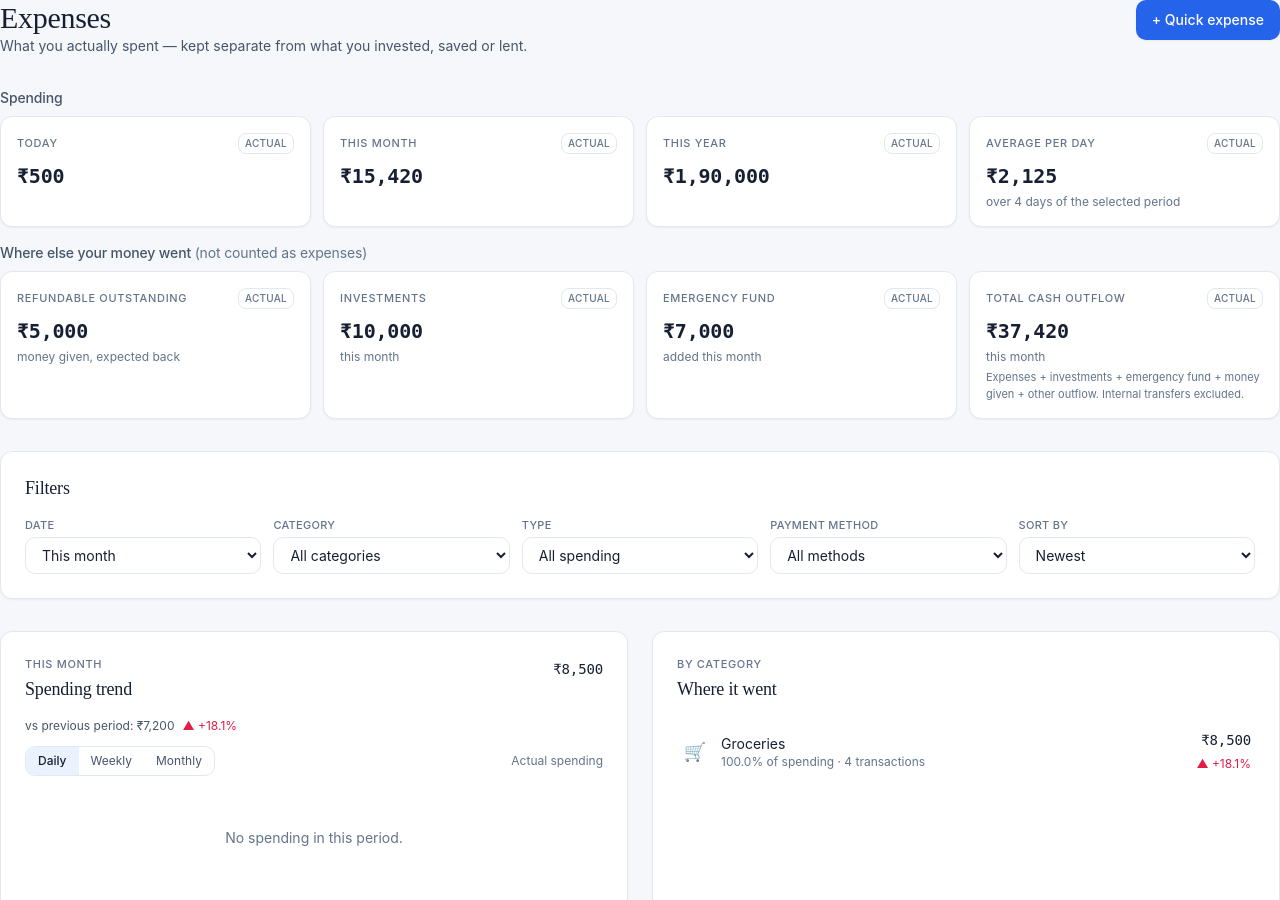
Test: ExpensesPage — filters › the Refundable type shows the RECEIVABLES ledger (not expense rows) and stops querying expenses
The width and height of the screenshot is (1280, 900).
Step 1. Select "Refundable (money given)" in the dropdown labelled "Type" → (640, 556), box [522,537,758,574]
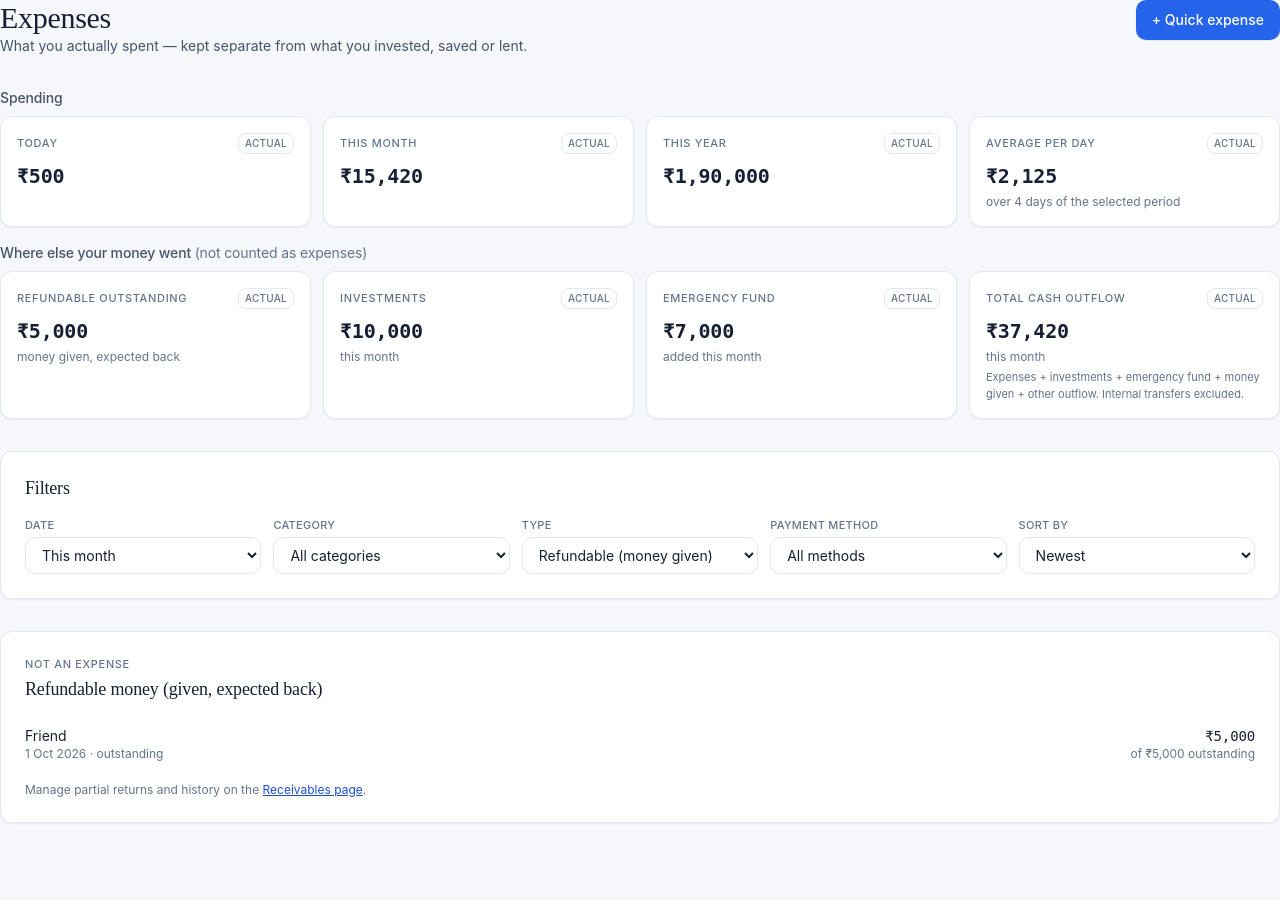
Result: the text "Friend" is shown at [25,726,67,744]
Result: the text "Not an expense" is shown at [25,657,130,671]
